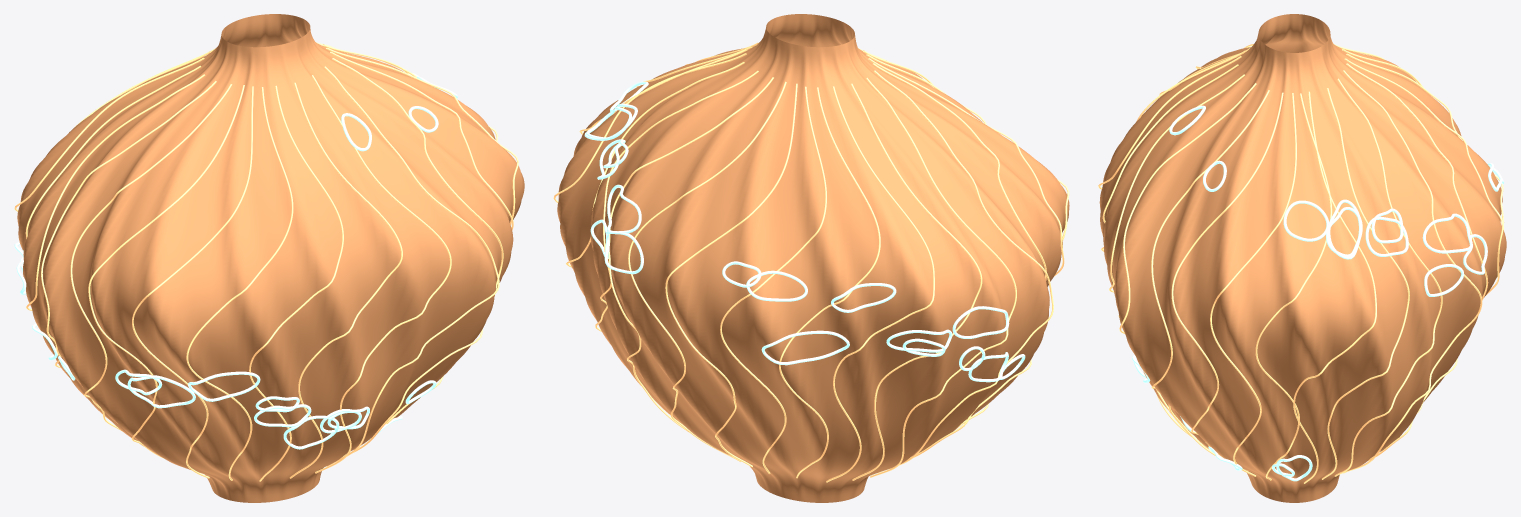
The model's file is luminous-seed-vessel.glb.
3 renders of one model, left to right at view 1: azimuth 30°, elevation 25°; view 2: azimuth 150°, elevation 25°; view 3: azimuth 270°, elevation 25°, orthographic.
Visible parts, largest first — view 1: Luminous Seed Vessel, seed_luminous_vein_19.001, seed_luminous_vein_17.001, seed_luminous_vein_18.001, seed_luminous_vein_20.001, seed_luminous_vein_14.001, seed_luminous_vein_15.001, seed_luminous_vein_13.001, seed_luminous_vein_16.001, seed_luminous_vein_12.001, seed_luminous_vein_11.001, seed_luminous_vein_21.001 (+5 smaller); view 2: Luminous Seed Vessel, seed_luminous_vein_10.001, seed_luminous_vein_11.001, seed_luminous_vein_08.001, seed_luminous_vein_05.001, seed_luminous_vein_04.001, seed_luminous_vein_09.001, seed_luminous_vein_06.001, seed_luminous_vein_07.001, seed_luminous_vein_12.001, seed_luminous_vein_03.001, seed_luminous_vein_13.001 (+2 smaller); view 3: Luminous Seed Vessel, seed_luminous_vein_03.001, seed_luminous_vein_02.001, seed_luminous_vein_00.001, seed_luminous_vein_01.001, seed_luminous_vein_22.001, seed_luminous_vein_20.001, seed_luminous_vein_23.001, seed_luminous_vein_21.001, seed_luminous_vein_04.001, seed_luminous_vein_19.001, seed_luminous_vein_05.001 (+6 smaller).
Part boxes in pixels (x1,y1,x2,y2): Luminous Seed Vessel: (17, 14, 524, 502); seed_luminous_vein_19.001: (324, 66, 499, 466); seed_luminous_vein_17.001: (289, 82, 402, 478); seed_luminous_vein_18.001: (311, 75, 451, 473); seed_luminous_vein_20.001: (332, 58, 503, 456); seed_luminous_vein_14.001: (132, 86, 253, 478); seed_luminous_vein_15.001: (186, 87, 293, 480); seed_luminous_vein_13.001: (88, 85, 244, 458); seed_luminous_vein_16.001: (249, 85, 343, 481); seed_luminous_vein_12.001: (70, 84, 232, 431); seed_luminous_vein_11.001: (41, 81, 216, 367); seed_luminous_vein_21.001: (330, 51, 513, 423); Luminous Seed Vessel: (557, 14, 1069, 502); seed_luminous_vein_10.001: (866, 77, 1016, 477); seed_luminous_vein_11.001: (874, 70, 1053, 472); seed_luminous_vein_08.001: (826, 86, 934, 482); seed_luminous_vein_05.001: (665, 83, 797, 467); seed_luminous_vein_04.001: (628, 81, 786, 461); seed_luminous_vein_09.001: (850, 83, 982, 480); seed_luminous_vein_06.001: (720, 86, 826, 473); seed_luminous_vein_07.001: (779, 87, 880, 478); seed_luminous_vein_12.001: (872, 63, 1046, 458); seed_luminous_vein_03.001: (608, 77, 773, 432); seed_luminous_vein_13.001: (868, 58, 1064, 428); Luminous Seed Vessel: (1099, 14, 1506, 502); seed_luminous_vein_03.001: (1343, 70, 1482, 473); seed_luminous_vein_02.001: (1334, 78, 1442, 476); seed_luminous_vein_00.001: (1293, 91, 1376, 483); seed_luminous_vein_01.001: (1322, 88, 1409, 479); seed_luminous_vein_22.001: (1210, 93, 1296, 476); seed_luminous_vein_20.001: (1151, 90, 1269, 455); seed_luminous_vein_23.001: (1255, 93, 1332, 480); seed_luminous_vein_21.001: (1171, 92, 1283, 471); seed_luminous_vein_04.001: (1346, 63, 1488, 461); seed_luminous_vein_19.001: (1119, 83, 1256, 449); seed_luminous_vein_05.001: (1344, 58, 1503, 413).
Bounding box in the file's own units: 170 × 158 × 131.
